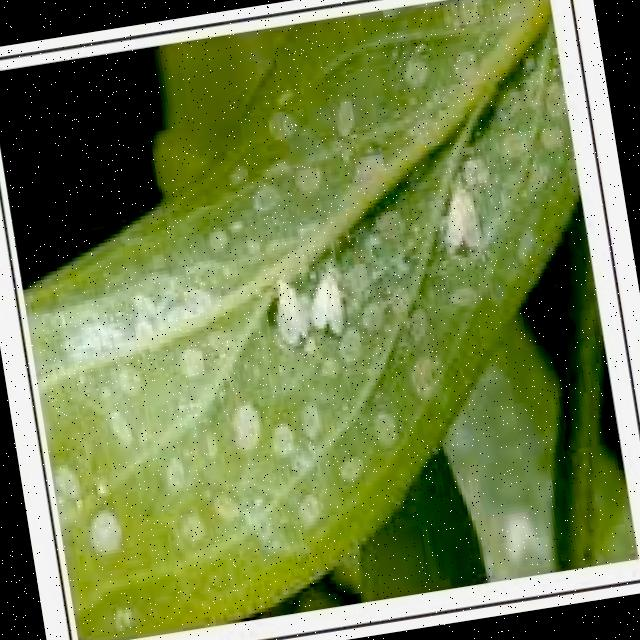whitefly: (15, 18, 618, 621)
